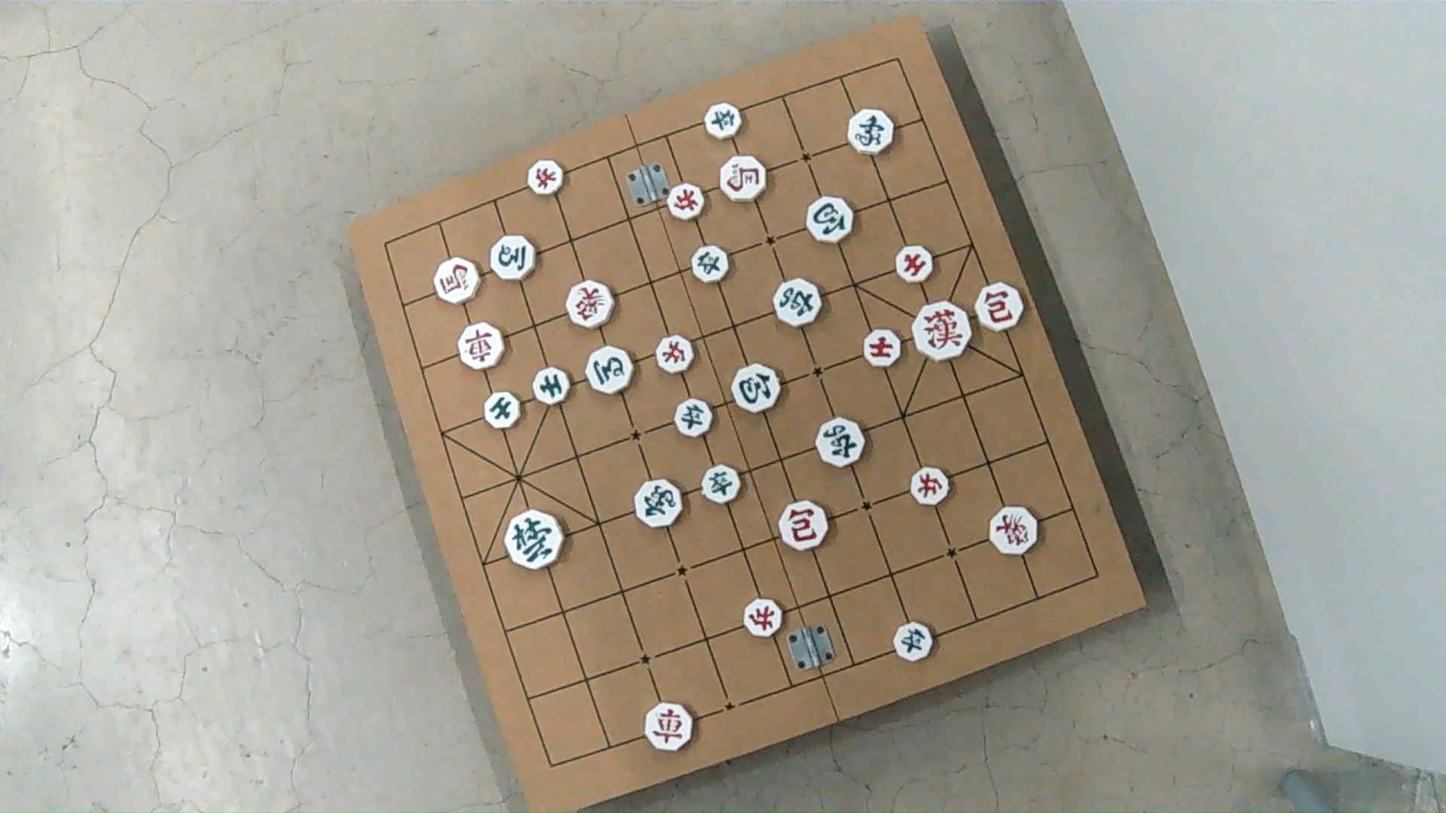cha_green: (774, 280, 822, 329), (816, 419, 864, 468)
cha_red: (645, 704, 694, 752), (460, 324, 505, 370)
jol_green: (894, 621, 933, 660), (700, 464, 740, 501), (689, 246, 728, 283), (705, 105, 742, 142), (676, 400, 712, 438)
jol_red: (654, 334, 693, 373), (911, 466, 949, 506), (743, 598, 782, 636), (670, 184, 707, 221), (528, 160, 563, 196)
ma_green: (585, 346, 633, 394), (489, 237, 535, 282)
ma_red: (437, 257, 482, 304), (720, 155, 766, 200)
po_green: (731, 364, 780, 413), (806, 199, 853, 245)
po_red: (975, 284, 1026, 333), (779, 502, 829, 551)
sa_green: (533, 367, 570, 405), (484, 392, 520, 428)
sa_red: (895, 244, 932, 282), (865, 330, 902, 367)
sang_green: (633, 480, 682, 528), (849, 111, 895, 156)
sang_red: (991, 506, 1040, 553), (566, 282, 613, 330)
wang_green: (507, 510, 564, 569)
wang_red: (915, 303, 974, 362)
